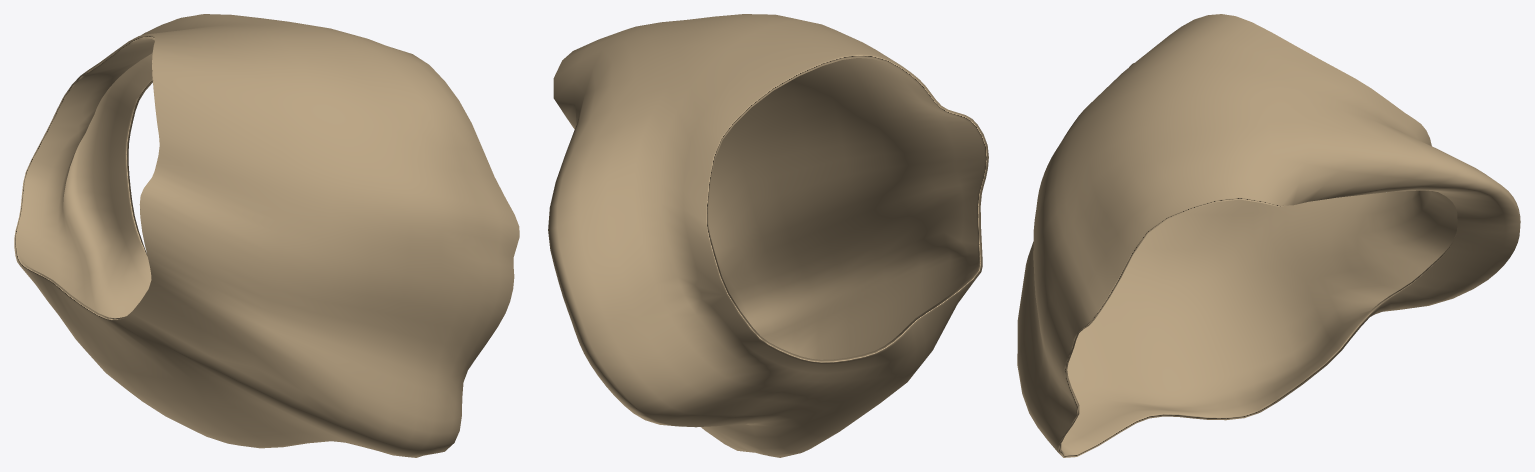
3 views of the same model, side by side, from view 1: azimuth 30°, elevation 25°; view 2: azimuth 150°, elevation 25°; view 3: azimuth 270°, elevation 25° (orthographic). The views are drawn at different scales.
Visible parts, largest first — view 1: 左侧肩关节囊; view 2: 左侧肩关节囊; view 3: 左侧肩关节囊.
Part boxes in pixels (bbox=[...]): 左侧肩关节囊: bbox=[14, 14, 519, 457]; 左侧肩关节囊: bbox=[548, 14, 988, 457]; 左侧肩关节囊: bbox=[1017, 14, 1520, 457].
Size of the model in its own units: 0.0696 by 0.0687 by 0.086.
